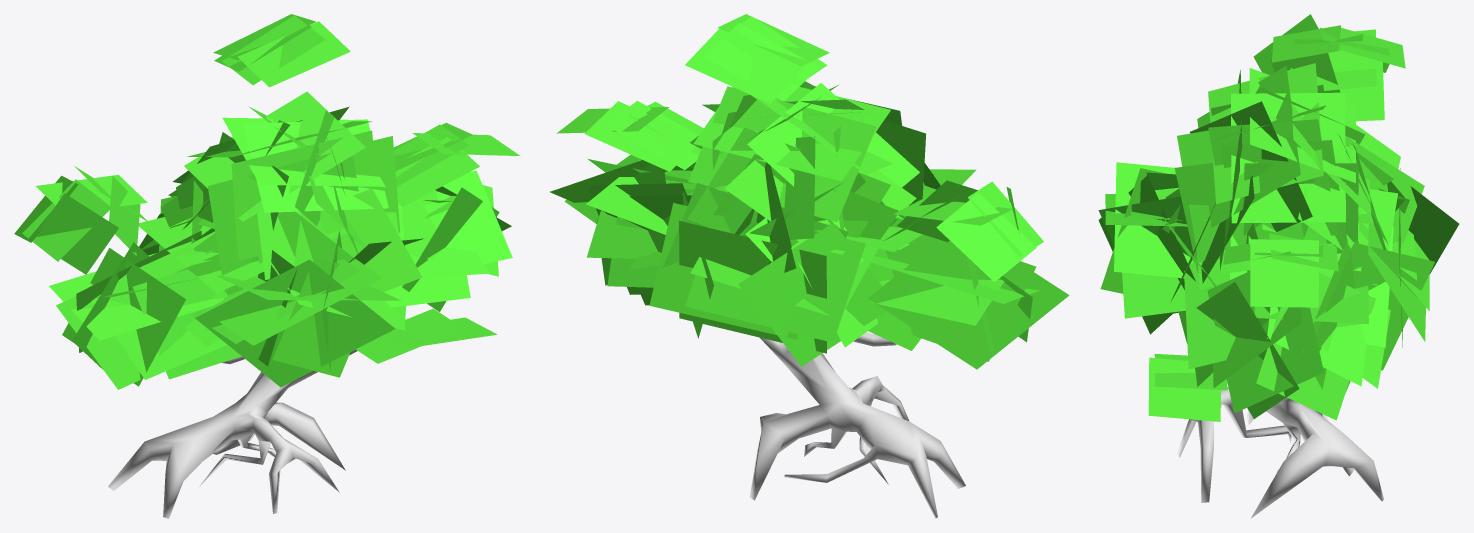
File: TreeA 1 LOD1.fbx
3 renders of one model, left to right at view 1: azimuth 30°, elevation 25°; view 2: azimuth 150°, elevation 25°; view 3: azimuth 270°, elevation 25°, orthographic. The views are drawn at different scales.
Parts seen in each view (by area): view 1: TreeA 1 LOD 1; view 2: TreeA 1 LOD 1; view 3: TreeA 1 LOD 1.
Boxes of the visible parts, x1=… form: TreeA 1 LOD 1: x1=14, y1=14, x2=519, y2=518; TreeA 1 LOD 1: x1=550, y1=14, x2=1069, y2=518; TreeA 1 LOD 1: x1=1098, y1=14, x2=1459, y2=518.
Bounding box in the file's own units: 5.58 × 8.23 × 9.38.
